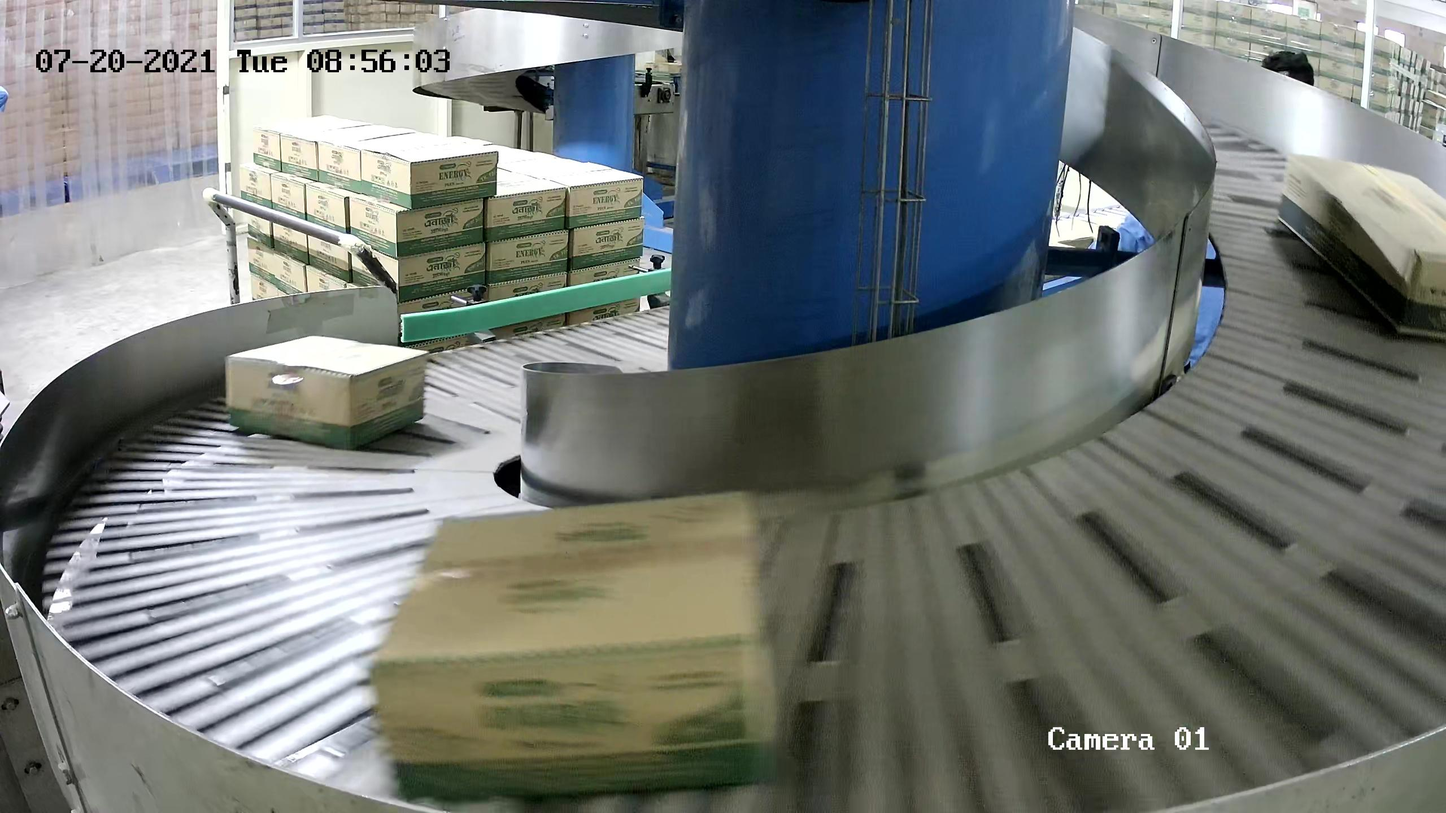Box: (369, 490, 780, 802), (1274, 150, 1446, 342), (224, 334, 428, 453)
